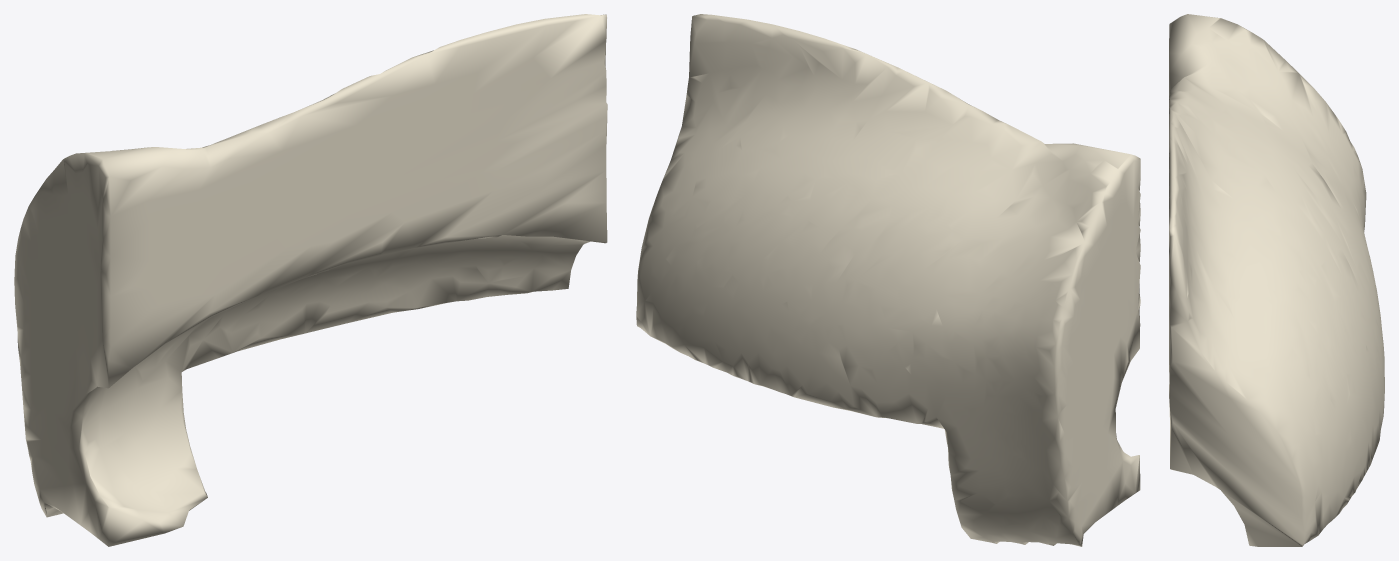
Rendered from parietal_r.glb.
3 views of the same model, side by side, from view 1: azimuth 30°, elevation 25°; view 2: azimuth 150°, elevation 25°; view 3: azimuth 270°, elevation 25° (orthographic). The views are drawn at different scales.
Parts seen in each view (by area): view 1: geometry_0; view 2: geometry_0; view 3: geometry_0.
Part boxes in pixels (x1,y1,x2,y2): geometry_0: [14, 14, 607, 546]; geometry_0: [636, 14, 1140, 546]; geometry_0: [1169, 14, 1384, 546].
Bounding box in the file's own units: 0.3155 × 0.276 × 0.1137.
